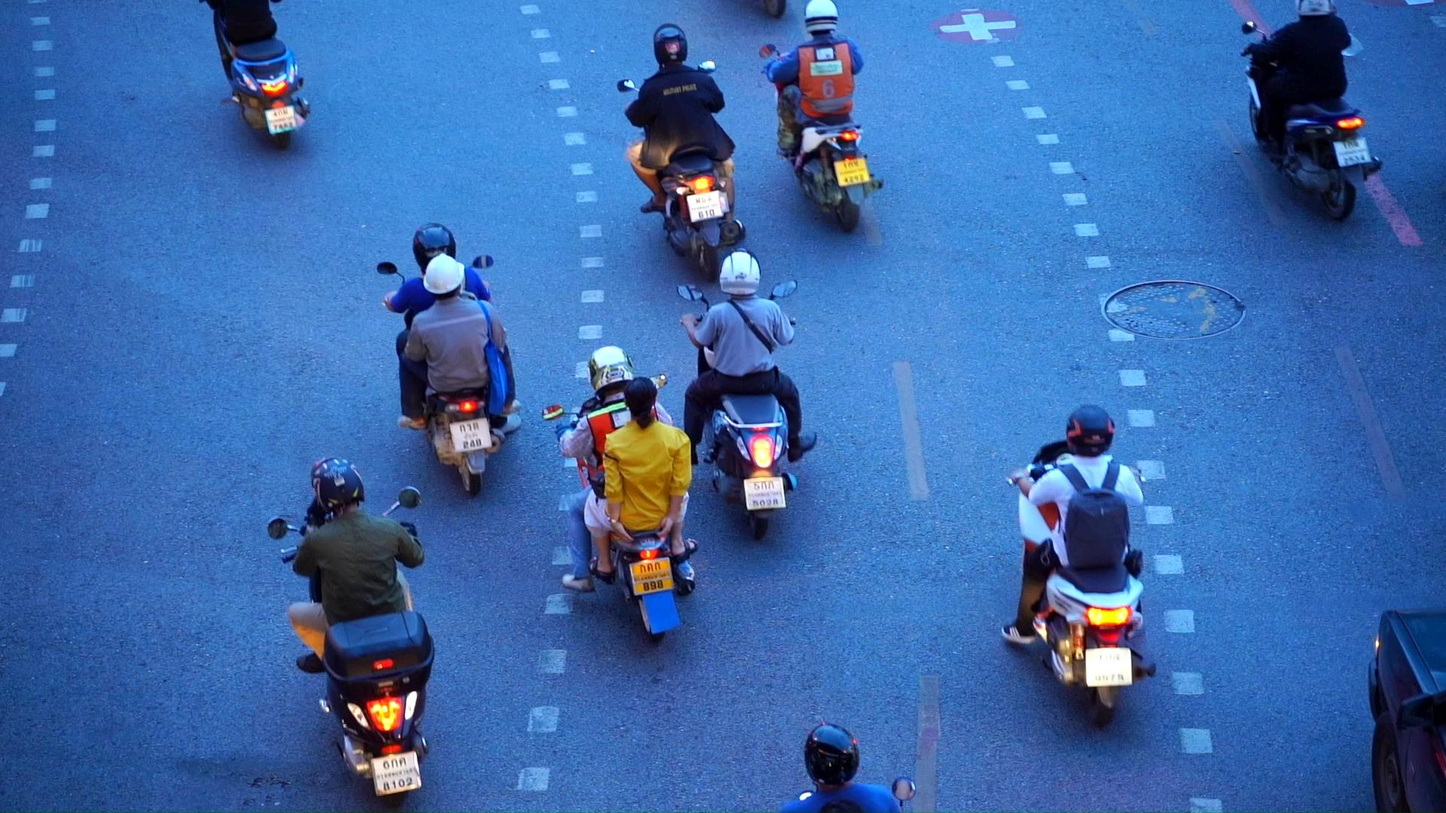driver: (267, 455, 435, 813), (1000, 404, 1158, 732), (542, 345, 700, 645), (676, 246, 818, 540), (376, 223, 524, 497), (618, 22, 747, 283), (1239, 0, 1383, 224), (759, 0, 884, 234), (199, 0, 310, 149), (780, 722, 917, 813)
helmet: (804, 722, 859, 787), (311, 455, 365, 515), (587, 345, 636, 401), (1066, 405, 1115, 457), (413, 223, 456, 277), (718, 247, 762, 297), (423, 252, 465, 301), (653, 23, 687, 64), (804, 0, 839, 34), (1295, 0, 1335, 18)
no-helmet: (624, 376, 658, 430)
